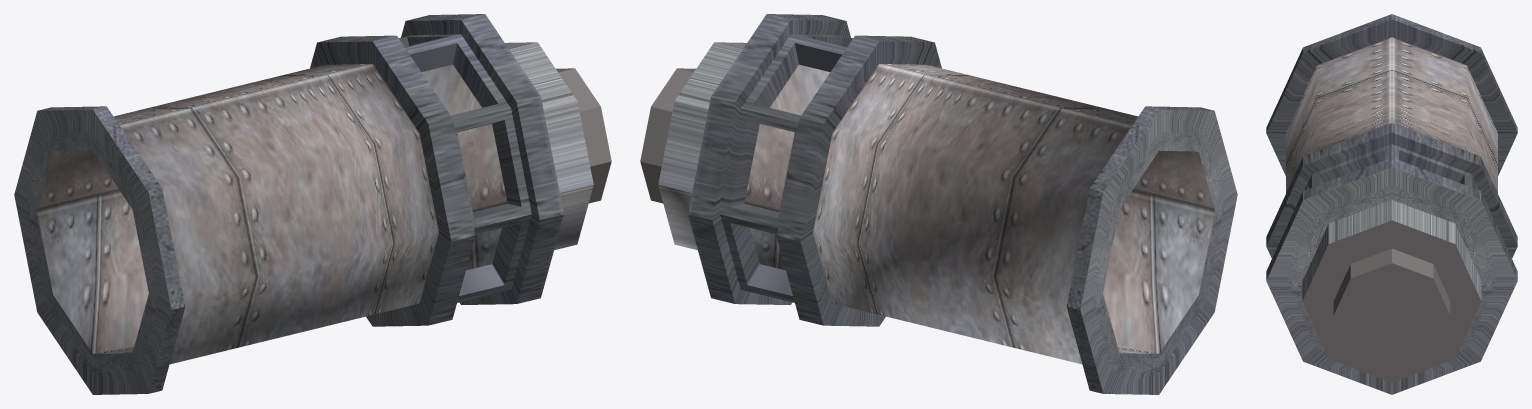
The model's file is pipe_U.glb.
The picture shows the model from 3 angles, left to right: view 1: azimuth 30°, elevation 25°; view 2: azimuth 150°, elevation 25°; view 3: azimuth 270°, elevation 25°; orthographic projection. The views are drawn at different scales.
Parts seen in each view (by area): view 1: zhuti.U; view 2: zhuti.U; view 3: zhuti.U.
Part boxes in pixels (left/top/right/bottom): zhuti.U: left=14, top=14, right=611, bottom=394; zhuti.U: left=640, top=14, right=1237, bottom=394; zhuti.U: left=1266, top=14, right=1517, bottom=394.
Size of the model in its own units: 7.44 by 4.21 by 4.21.
Materials: 2 (2 with a texture image).
